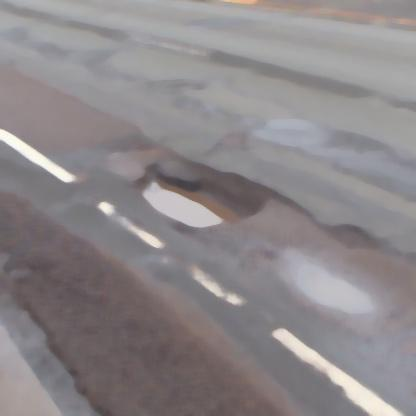Potholes: (136, 160, 250, 233)
